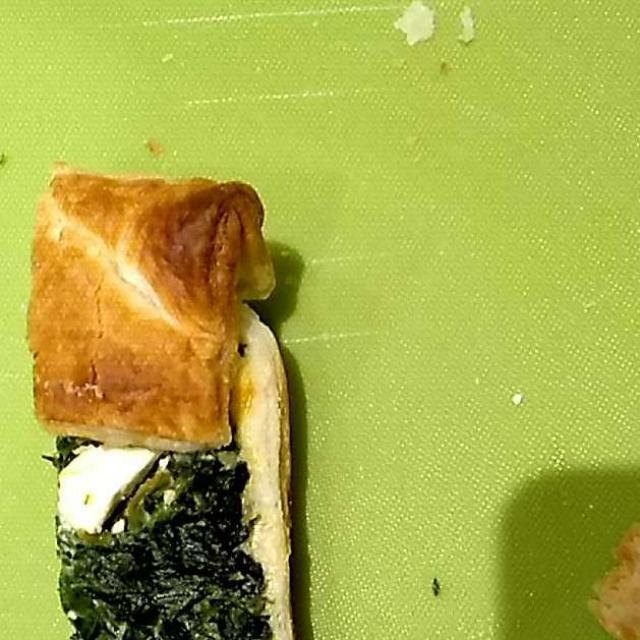quiche: (27, 170, 296, 638)
